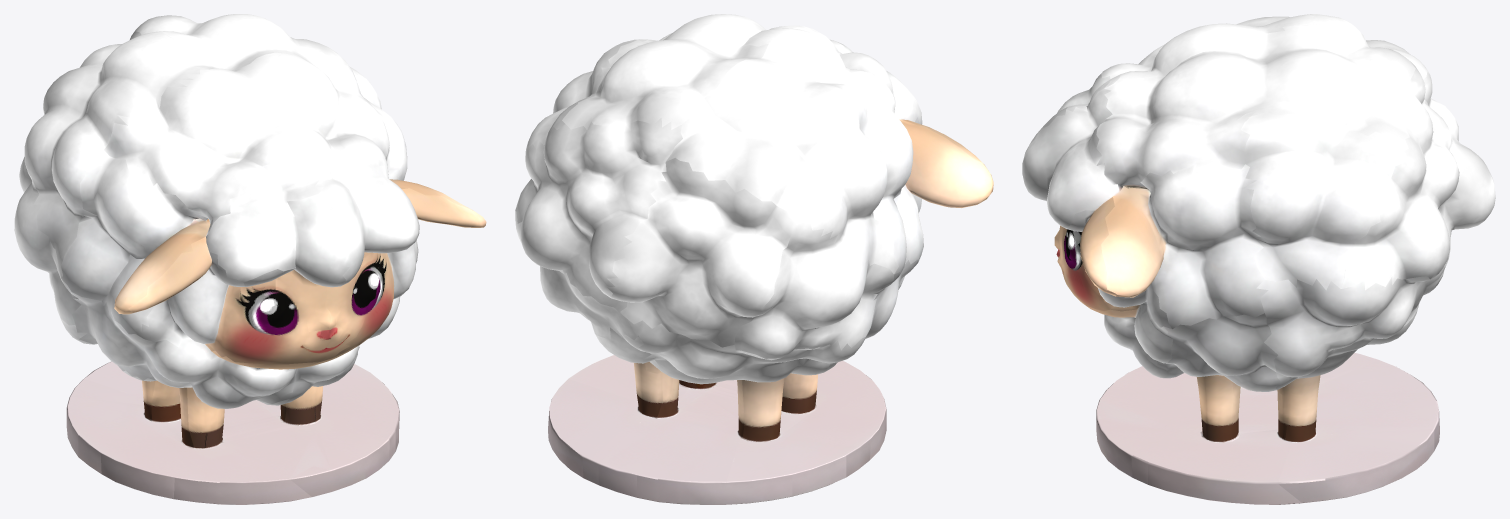
The model's file is sheepv01.glb.
3 renders of one model, left to right at view 1: azimuth 30°, elevation 25°; view 2: azimuth 150°, elevation 25°; view 3: azimuth 270°, elevation 25°, orthographic.
Parts seen in each view (by area): view 1: mesh_node; view 2: mesh_node; view 3: mesh_node.
Boxes of the visible parts, x1,y1,x2,y2 form: mesh_node: [14, 14, 486, 504]; mesh_node: [515, 14, 993, 504]; mesh_node: [1022, 14, 1495, 504].
Size of the model in its own units: 1.7 by 1.73 by 1.9.
Materials: 1 (1 with a texture image).
